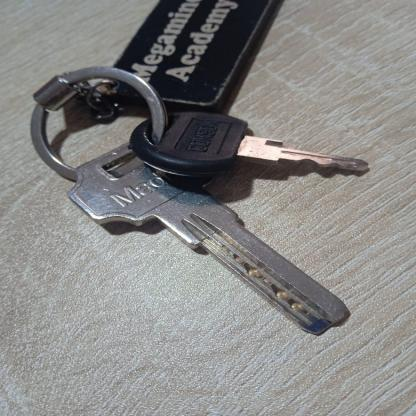key: (77, 150, 335, 329), (137, 107, 369, 179)
